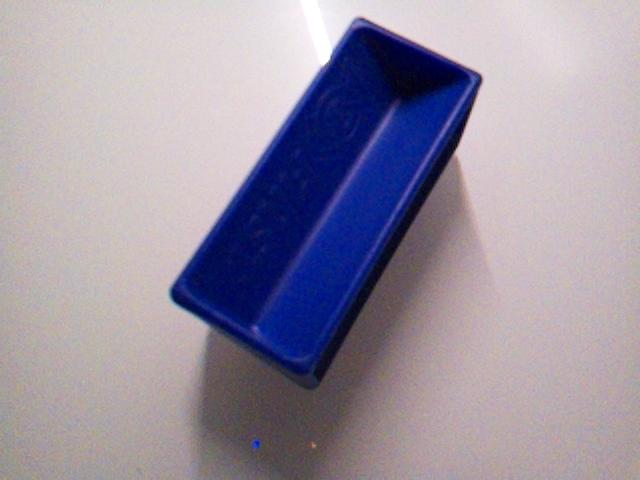blue: (169, 16, 484, 390)
